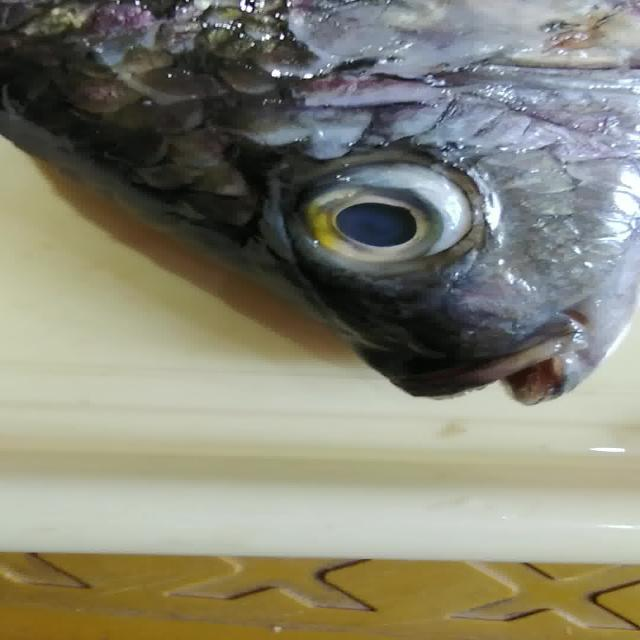Fresh: (251, 154, 492, 276)
